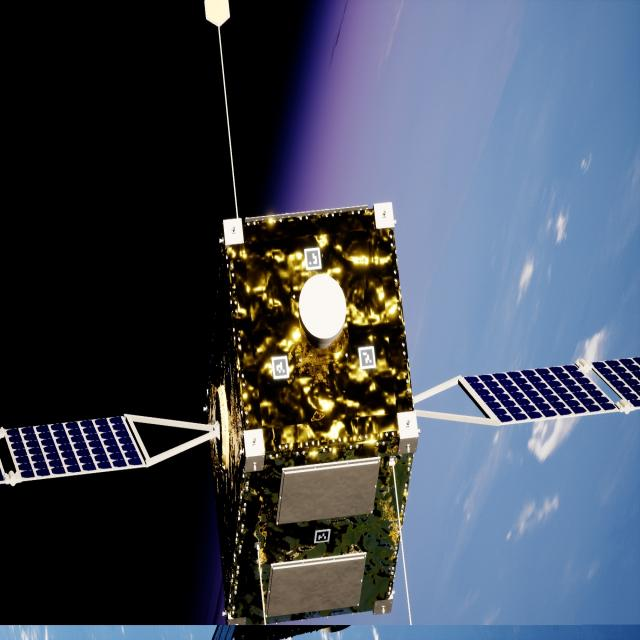satellite: (0, 203, 640, 625)
